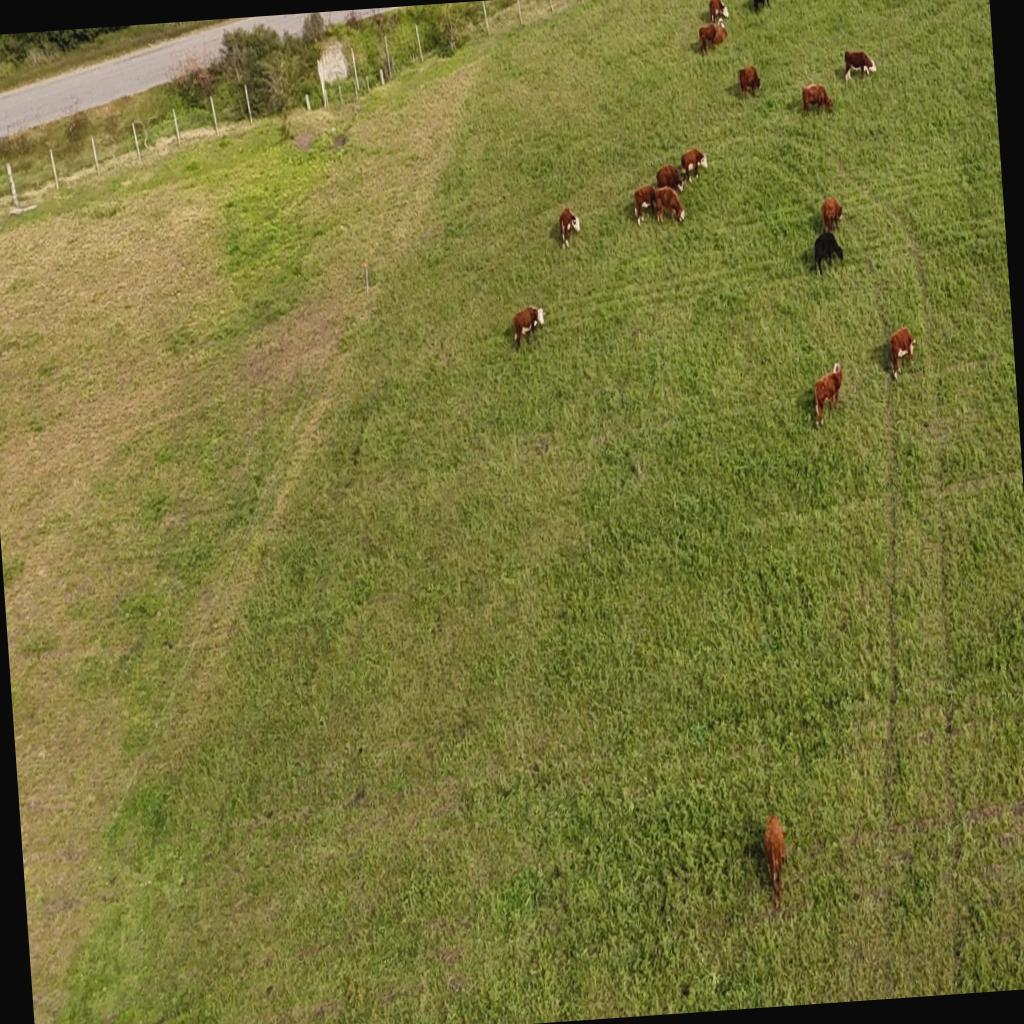cow: (758, 814, 792, 912), (811, 366, 846, 426), (888, 325, 920, 381), (806, 231, 848, 272), (511, 305, 547, 352), (654, 186, 686, 226), (632, 184, 660, 229), (842, 48, 878, 82), (800, 82, 834, 116), (558, 206, 582, 249), (819, 194, 846, 232), (680, 146, 708, 182), (654, 165, 684, 194), (698, 23, 724, 56), (738, 65, 762, 100), (707, 0, 729, 24), (751, 0, 775, 11)
